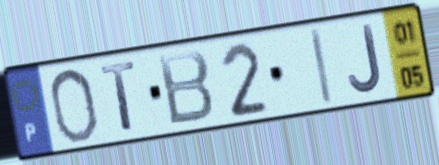2: (219, 39, 272, 120)
B: (154, 47, 217, 129)
I: (307, 25, 336, 109)
J: (346, 21, 386, 96)
O: (46, 65, 101, 146)
T: (98, 58, 139, 135)
